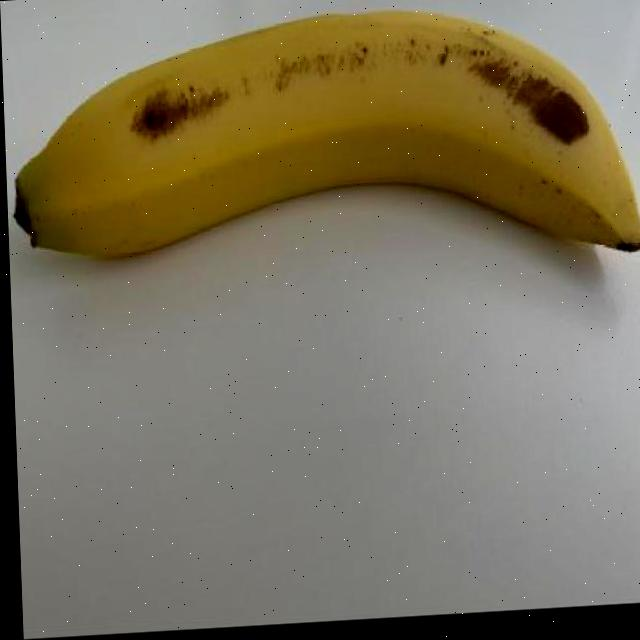banana: (4, 0, 640, 293)
